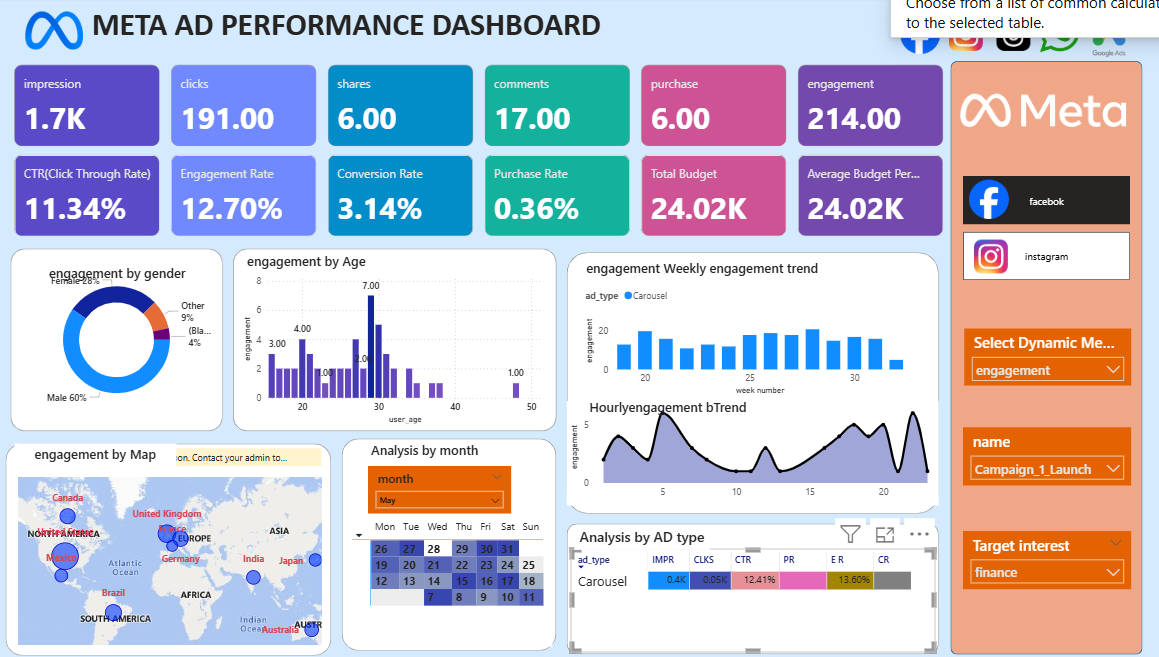

The page's visual inventory and layout, read from the dashboard file:
{"tool":"powerbi","page":{"name":"facebok","canvas":[1570,900],"ordinal":0},"visuals":[{"type":"textbox","box":[121.2,6.7,712,80.8],"z":0},{"type":"image","box":[32,0,87.5,92.6],"z":1000},{"type":"shape","box":[1283,87.2,258.5,799.3],"z":2000},{"type":"cardVisual","fields":{"Data":["ad_events.impression","ad_events.clicks","ad_events.shares","ad_events.comments","ad_events.purchase","ad_events.engagement"]},"box":[17.4,88.3,1265.5,120.5],"z":3000},{"type":"cardVisual","fields":{"Data":["ad_events.CTR(Click Through Rate)","ad_events.Engagement Rate","ad_events.Conversion Rate","ad_events.Purchase Rate","ad_events.Total Budget","ad_events.Average Budget Per Campaign"]},"box":[17.4,208.8,1265.5,120.5],"z":4000},{"type":"shape","box":[16.8,340.3,285.8,246.1],"z":5000},{"type":"donutChart","fields":{"Y":["ad_events.engagement"],"Category":["users.user_gender"]},"box":[26,357.2,269,212.5],"z":6000},{"type":"card","fields":{"Values":["ad_events.Gendwe Title"]},"box":[47.1,340,227.2,70.7],"z":7000},{"type":"shape","box":[316.4,340.3,435.6,246.1],"z":8000},{"type":"slicer","fields":{"Values":["Select Dynamic Measure.Select Dynamic Measure"]},"box":[1301.7,448.3,225,76.7],"z":9000},{"type":"columnChart","fields":{"Y":["ad_events.engagement"],"Category":["users.user_age"]},"box":[325.6,367.9,415.8,212.5],"z":10000},{"type":"card","fields":{"Values":["ad_events.Age Title"]},"box":[302.7,325.1,224.7,68.8],"z":11000},{"type":"shape","box":[10.7,602.2,438.7,285.8],"z":12000},{"type":"map","fields":{"Size":["ad_events.engagement"],"Category":["users.country"]},"box":[21.4,603.7,418.8,269],"z":13000},{"type":"card","fields":{"Values":["ad_events.Map Title"]},"box":[21.4,601.7,218.6,32.1],"z":14000},{"type":"shape","box":[463.1,596.1,288.9,285.8],"z":15000},{"type":"pivotTable","fields":{"Rows":["calender.week number"],"Columns":["calender.day name"],"Values":["Min(calender.day number)"]},"box":[470.8,698.5,275.1,177.3],"z":16000},{"type":"slicer","fields":{"Values":["calender.month"]},"box":[498.3,632.8,192.6,64.2],"z":17000},{"type":"card","fields":{"Values":["ad_events.calender Title"]},"box":[481.5,599.2,181.9,30],"z":18000},{"type":"shape","box":[766.6,345.2,500.9,352],"z":19000},{"type":"columnChart","fields":{"Y":["ad_events.engagement"],"Category":["calender.week number"],"Series":["ads.ad_type"]},"box":[785.2,384.1,440,159.1],"z":20000},{"type":"card","fields":{"Values":["ad_events.weekly Title"]},"box":[776.7,333.3,345,70],"z":21000},{"type":"stackedAreaChart","fields":{"Y":["ad_events.engagement"],"Category":["ad_events.event hour"]},"box":[766.6,544.9,500.9,140.5],"z":22000},{"type":"card","fields":{"Values":["ad_events.hourly Title"]},"box":[740.6,552.1,262.6,69],"z":23000},{"type":"shape","box":[766.6,710.7,500.9,176],"z":24000},{"type":"pivotTable","fields":{"Rows":["ads.ad_type"],"Values":["ad_events.impression","ad_events.clicks","ad_events.CTR(Click Through Rate)","ad_events.Purchase Rate","ad_events.Engagement Rate","ad_events.Conversion Rate"]},"box":[771.6,744.6,490.7,138.8],"z":25000},{"type":"card","fields":{"Values":["Min(ad_events.matrix title)"]},"box":[776.7,715.8,182.8,30.5],"z":26000},{"type":"slicer","fields":{"Values":["campaigns.name"]},"box":[1300,580,226.7,78.3],"z":27000},{"type":"slicer","fields":{"Values":["ads.target_interests"]},"box":[1300,720,226.7,78.3],"z":28000},{"type":"pageNavigator","box":[1300,241.7,225,141.7],"z":29000},{"type":"image","box":[1303.3,230,63.3,86.7],"z":30000},{"type":"image","box":[1308.3,323.3,58.3,55],"z":31000},{"type":"image","box":[1291.7,38.3,233.3,230],"z":32000},{"type":"image","box":[1210,8.3,63.3,86.7],"z":33000},{"type":"image","box":[1273.3,23.3,58.3,55],"z":34000},{"type":"image","box":[1338.3,23.3,58.3,55],"z":35000},{"type":"image","box":[1396.7,13.3,65,71.7],"z":36000},{"type":"image","box":[1466.7,21.7,60,65],"z":37000}]}

Visuals, with their boxes on the page's 1570x900 design canvas (x1, y1, x2, y2). These are canvas units, not pixel positions in the 1159x657 screenshot, which may show the page scaled, cropped or inside an application window:
textbox: Rect(121, 7, 833, 88)
image: Rect(32, 0, 120, 93)
shape: Rect(1283, 87, 1542, 886)
cardVisual - ad_events.impression x ad_events.clicks: Rect(17, 88, 1283, 209)
cardVisual - ad_events.CTR(Click Through Rate) x ad_events.Engagement Rate: Rect(17, 209, 1283, 329)
shape: Rect(17, 340, 303, 586)
donutChart - ad_events.engagement x users.user_gender: Rect(26, 357, 295, 570)
card - ad_events.Gendwe Title: Rect(47, 340, 274, 411)
shape: Rect(316, 340, 752, 586)
slicer - Select Dynamic Measure.Select Dynamic Measure: Rect(1302, 448, 1527, 525)
columnChart - ad_events.engagement x users.user_age: Rect(326, 368, 741, 580)
card - ad_events.Age Title: Rect(303, 325, 527, 394)
shape: Rect(11, 602, 449, 888)
map - ad_events.engagement x users.country: Rect(21, 604, 440, 873)
card - ad_events.Map Title: Rect(21, 602, 240, 634)
shape: Rect(463, 596, 752, 882)
pivotTable - calender.week number x calender.day name: Rect(471, 698, 746, 876)
slicer - calender.month: Rect(498, 633, 691, 697)
card - ad_events.calender Title: Rect(482, 599, 663, 629)
shape: Rect(767, 345, 1268, 697)
columnChart - ad_events.engagement x calender.week number: Rect(785, 384, 1225, 543)
card - ad_events.weekly Title: Rect(777, 333, 1122, 403)
stackedAreaChart - ad_events.engagement x ad_events.event hour: Rect(767, 545, 1268, 685)
card - ad_events.hourly Title: Rect(741, 552, 1003, 621)
shape: Rect(767, 711, 1268, 887)
pivotTable - ads.ad_type x ad_events.impression: Rect(772, 745, 1262, 883)
card - Min(ad_events.matrix title): Rect(777, 716, 960, 746)
slicer - campaigns.name: Rect(1300, 580, 1527, 658)
slicer - ads.target_interests: Rect(1300, 720, 1527, 798)
pageNavigator: Rect(1300, 242, 1525, 383)
image: Rect(1303, 230, 1367, 317)
image: Rect(1308, 323, 1367, 378)
image: Rect(1292, 38, 1525, 268)
image: Rect(1210, 8, 1273, 95)
image: Rect(1273, 23, 1332, 78)
image: Rect(1338, 23, 1397, 78)
image: Rect(1397, 13, 1462, 85)
image: Rect(1467, 22, 1527, 87)
